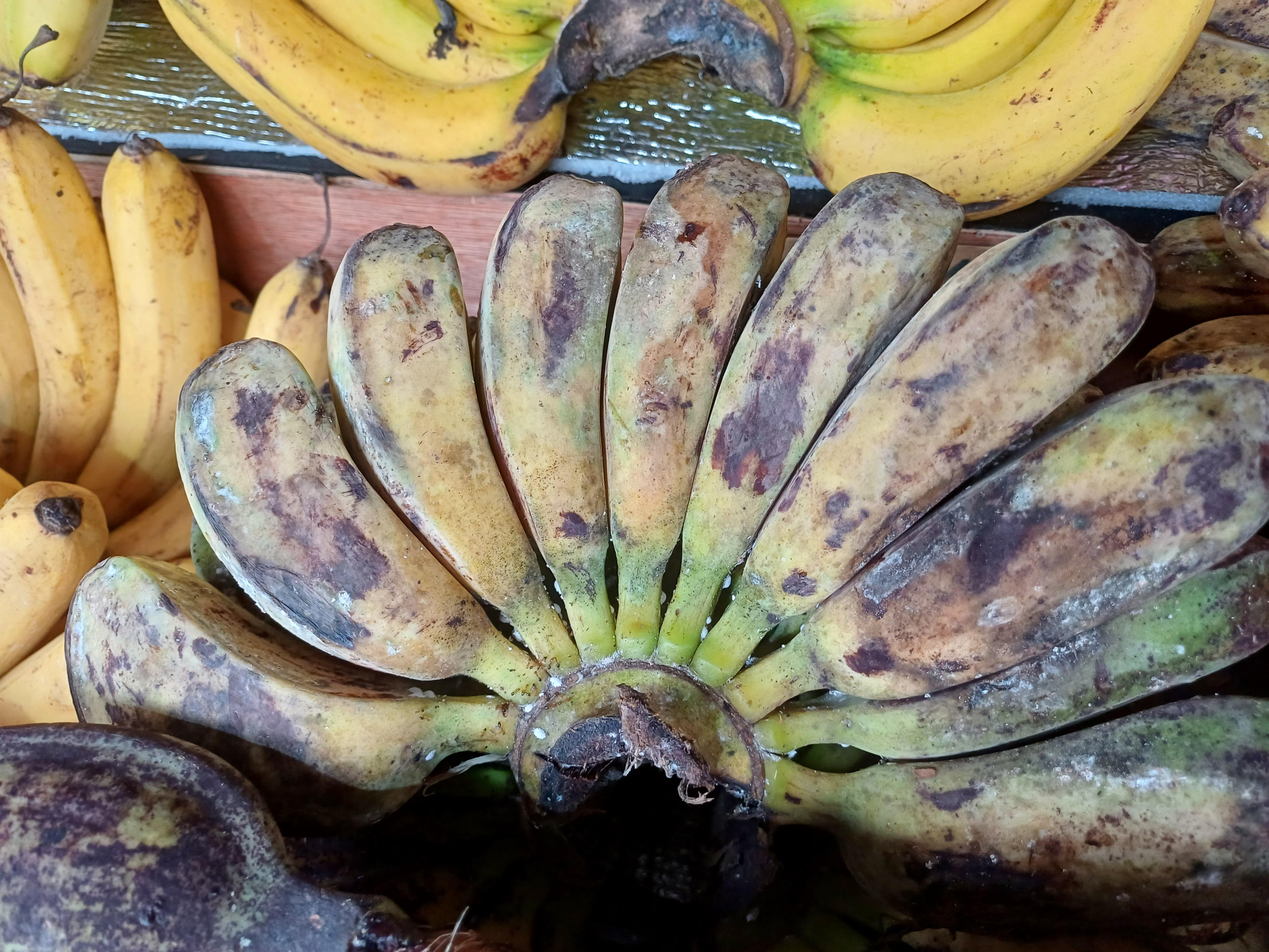underripe: (67, 154, 1269, 944)
